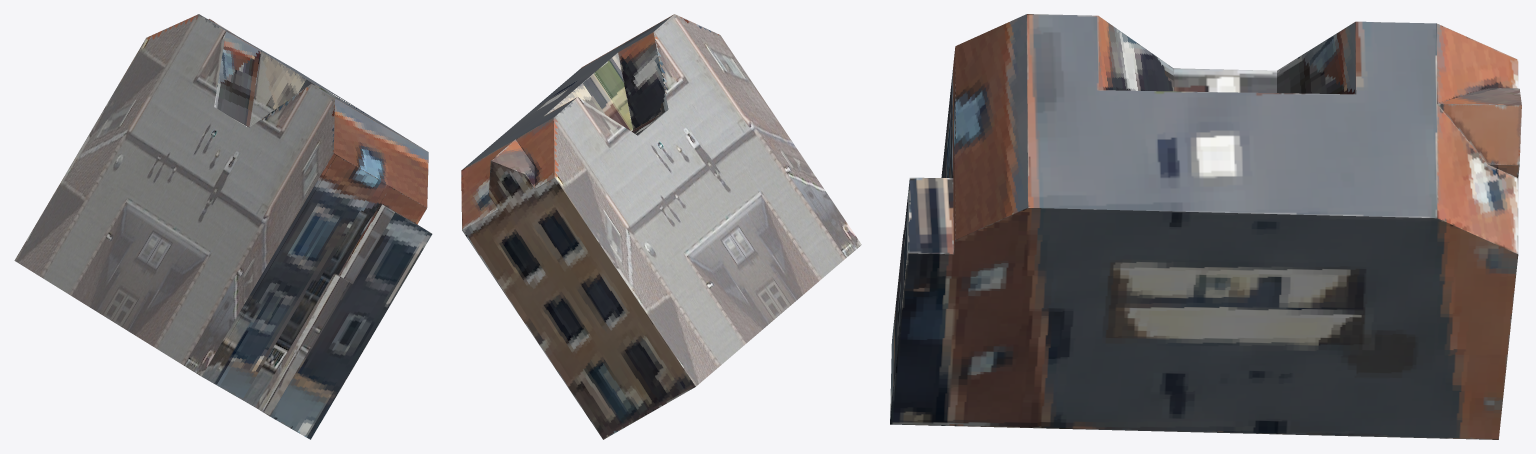
3 renders of one model, left to right at view 1: azimuth 30°, elevation 25°; view 2: azimuth 150°, elevation 25°; view 3: azimuth 270°, elevation 25°, orthographic. The views are drawn at different scales.
Visible parts, largest first — view 1: BAG_0599100000670790 (×3); view 2: BAG_0599100000670790 (×3); view 3: BAG_0599100000670790 (×3).
Part boxes in pixels (box(x1,y1,x2,y2)): BAG_0599100000670790 (×3): box(14, 14, 432, 439); BAG_0599100000670790 (×3): box(461, 14, 861, 439); BAG_0599100000670790 (×3): box(890, 14, 1521, 439).
Bounding box in the file's own units: 12.91 × 14.3 × 16.89.
1 material, 1 textured.
